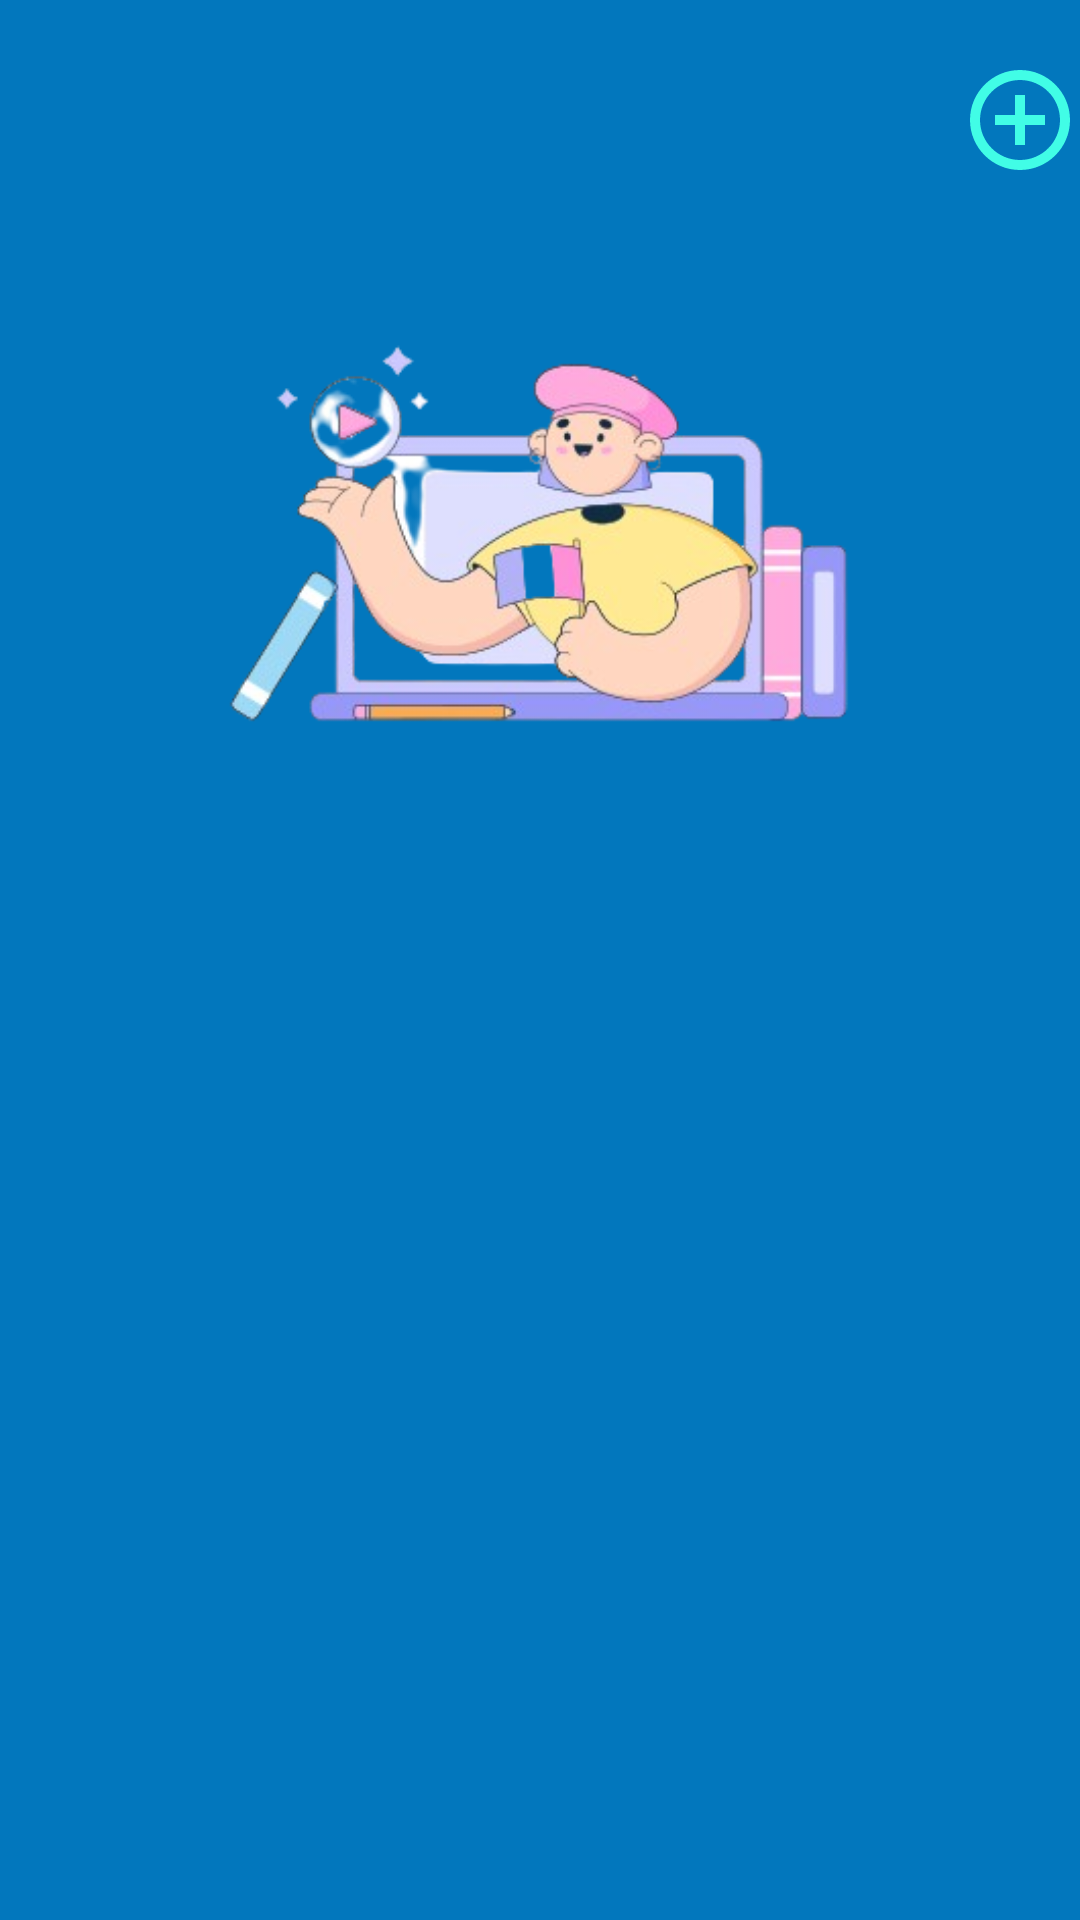

Screen size 1080x1920. Icon name, then its box in pixels as (x1, y1, x2, y2):
add circle: (970, 70, 1070, 170)
